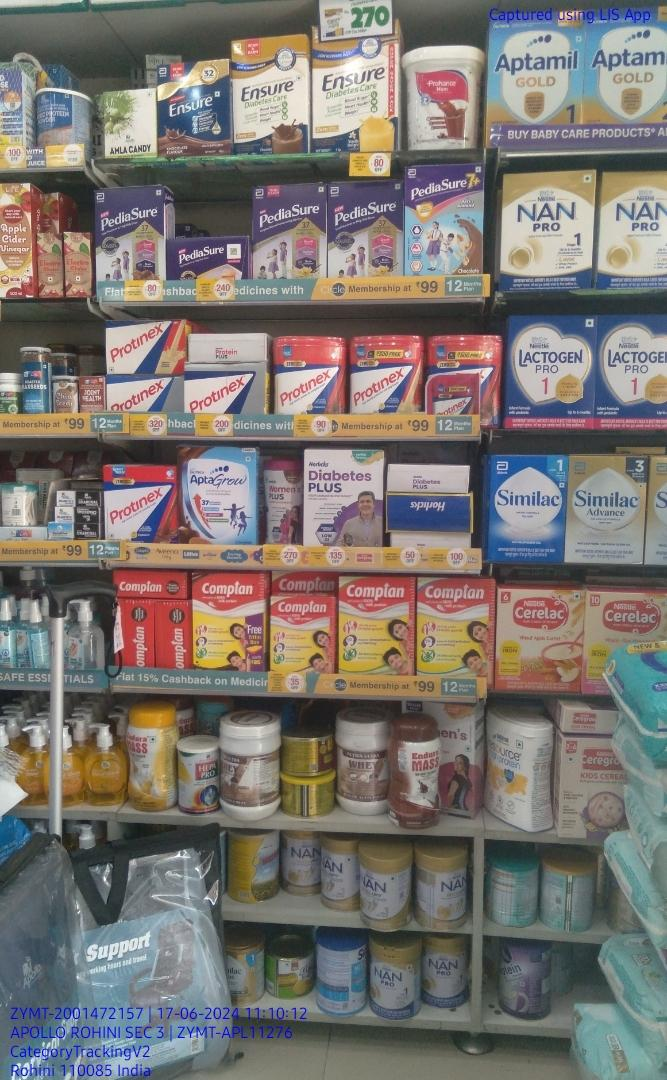COMPLAN_CHOCOLATE_500_GMS_PACK: (192, 573, 263, 675)
COMPLAN_CREAMY_CLASSIC_500_G_PACK: (417, 577, 493, 679)
COMPLAN_KESAR_BADAM_200_GMS_PACK: (270, 597, 335, 675)
COMPLAN_PISTA_BADAM_500_GMS_PACK: (338, 576, 414, 676)
PEDIASURE_7_PLUS_CHOCOLATE_400_G_PACK: (405, 166, 483, 275)
PEDIASURE_CHOCOLATE_500_G_PACK: (95, 188, 164, 281)
PEDIASURE_VANILLA_500_G_PACK: (328, 183, 403, 277), (253, 186, 326, 281)
PROTINEX_CHOCOLATE_400_G_JAR: (430, 333, 505, 424), (273, 336, 343, 414)
